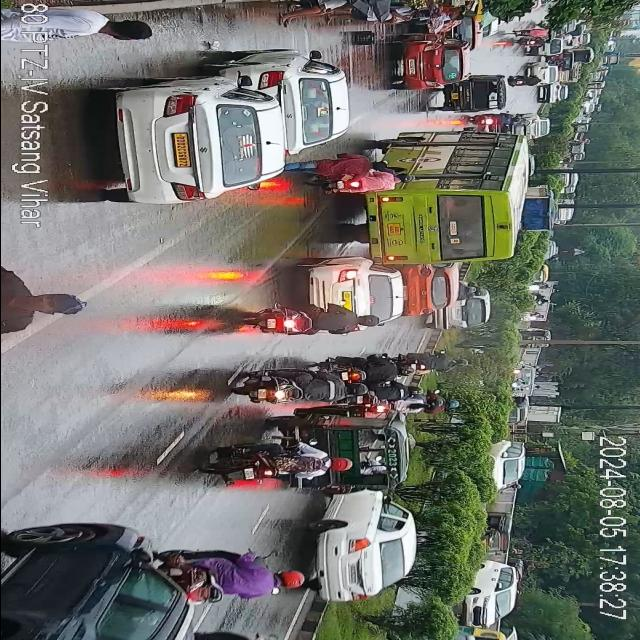2-wheelers: (154, 545, 304, 611), (203, 438, 351, 482), (338, 349, 426, 415), (235, 364, 363, 402), (358, 372, 430, 420), (245, 309, 382, 334), (304, 174, 412, 192), (194, 630, 296, 640), (390, 392, 438, 413), (514, 29, 551, 52), (510, 74, 544, 90), (469, 115, 518, 126), (430, 398, 454, 414), (506, 380, 532, 388)
auto: (312, 409, 408, 494), (401, 262, 456, 316), (430, 286, 488, 336), (444, 71, 506, 115), (482, 516, 509, 558), (503, 398, 530, 427)
bus: (366, 122, 534, 266)
car: (0, 516, 190, 640), (112, 75, 282, 203), (313, 490, 413, 608), (240, 50, 348, 154), (300, 253, 406, 339), (396, 34, 461, 92), (466, 564, 520, 626), (488, 440, 524, 494), (446, 15, 484, 52), (526, 59, 556, 88), (541, 82, 567, 108), (524, 114, 550, 137), (526, 46, 560, 60), (508, 361, 534, 379), (552, 52, 572, 70), (509, 118, 531, 134)
pedestrian: (0, 266, 82, 346), (50, 8, 156, 44), (286, 152, 384, 176), (278, 1, 358, 28), (332, 6, 430, 21), (432, 0, 468, 22)
truck: (516, 190, 564, 233), (560, 66, 580, 86), (572, 48, 595, 62)
